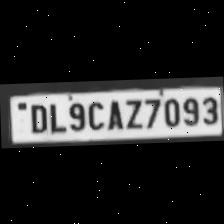0: (160, 94, 180, 128)
3: (198, 93, 218, 126)
7: (140, 94, 160, 128)
9: (178, 94, 200, 127), (64, 100, 84, 132)
A: (104, 96, 122, 132)
C: (84, 98, 104, 131)
D: (25, 101, 47, 134)
L: (44, 99, 64, 133)
Z: (121, 96, 143, 130)
